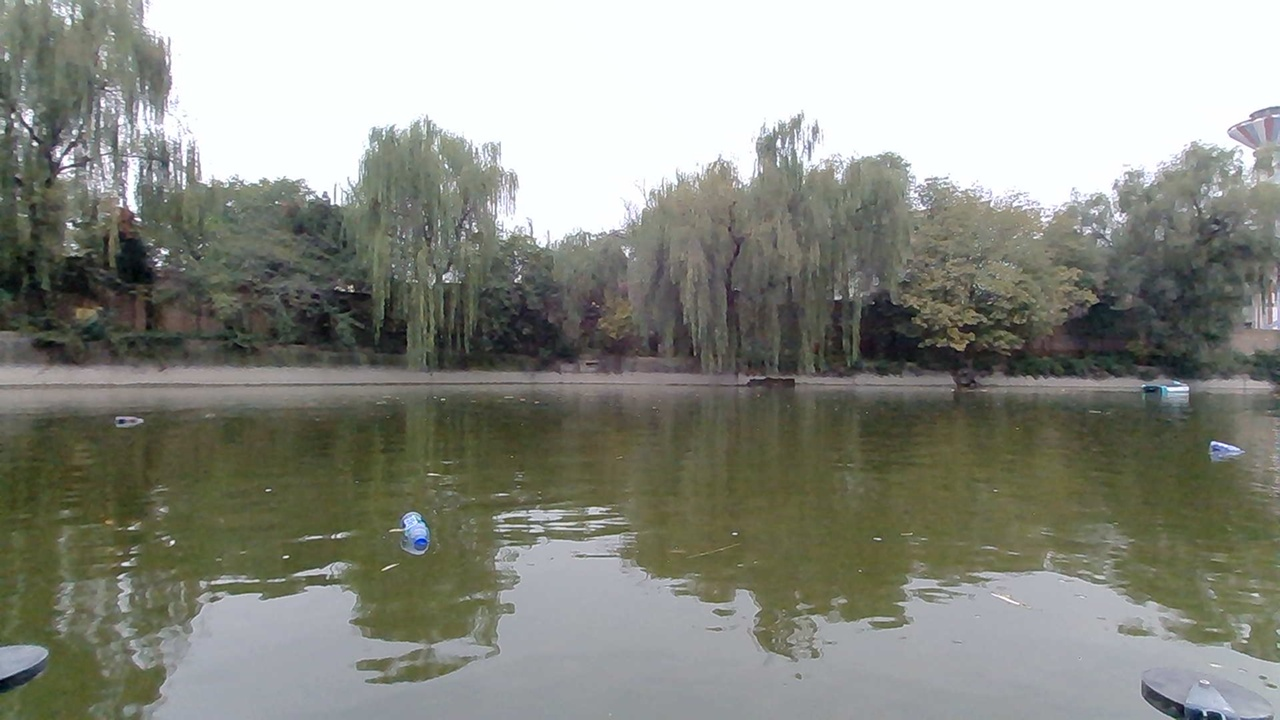bottle: (392, 515, 442, 552), (1201, 435, 1246, 469), (116, 396, 148, 430)
